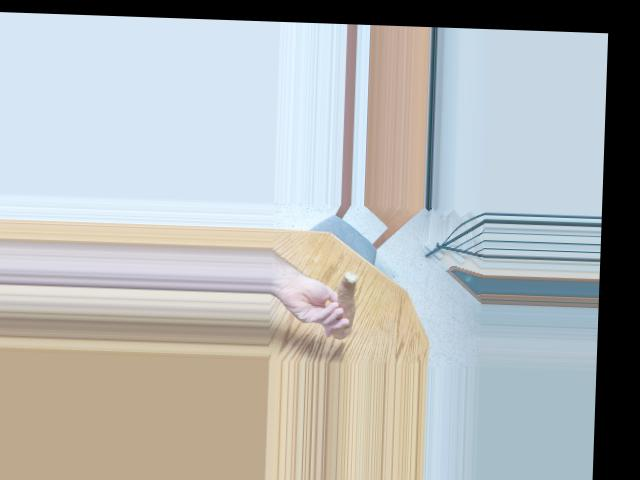sweet_potato: (327, 269, 360, 338)
